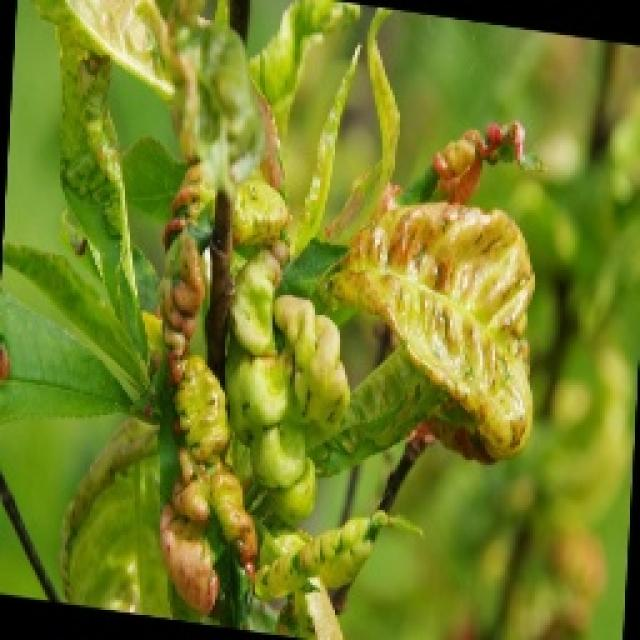peach_leaf_curl: (154, 162, 330, 557), (322, 195, 538, 465)
